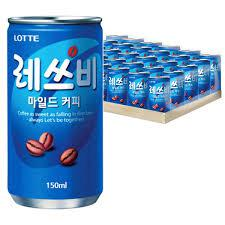letsbe: (9, 15, 104, 207), (151, 78, 171, 123), (167, 71, 185, 110), (110, 68, 128, 106), (131, 75, 148, 115), (183, 67, 198, 102), (211, 54, 224, 94), (197, 58, 210, 98)
